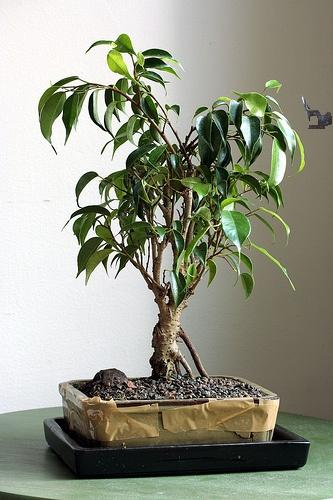tampered: (302, 96, 332, 129)
